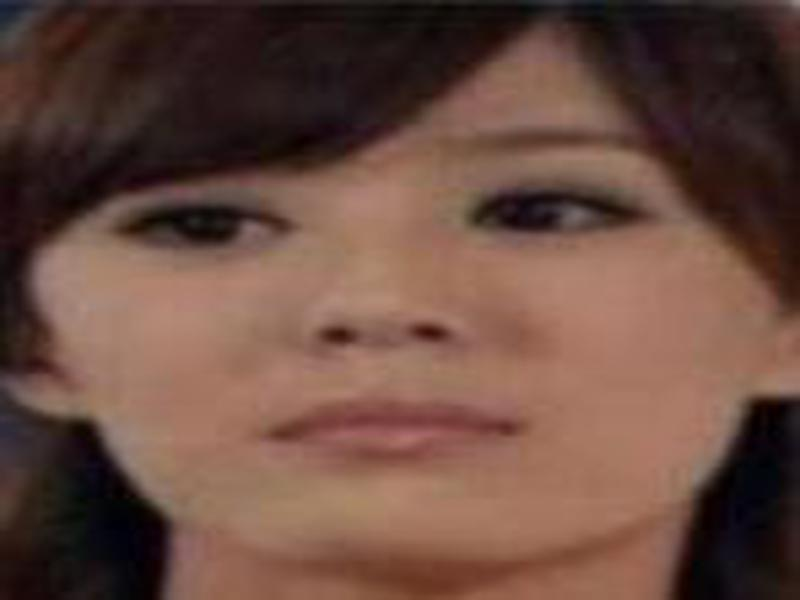without_mask: (31, 101, 761, 563)
